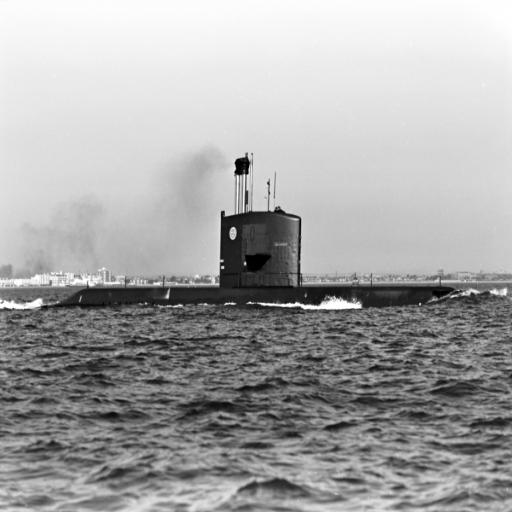submarine: (37, 211, 459, 312)
